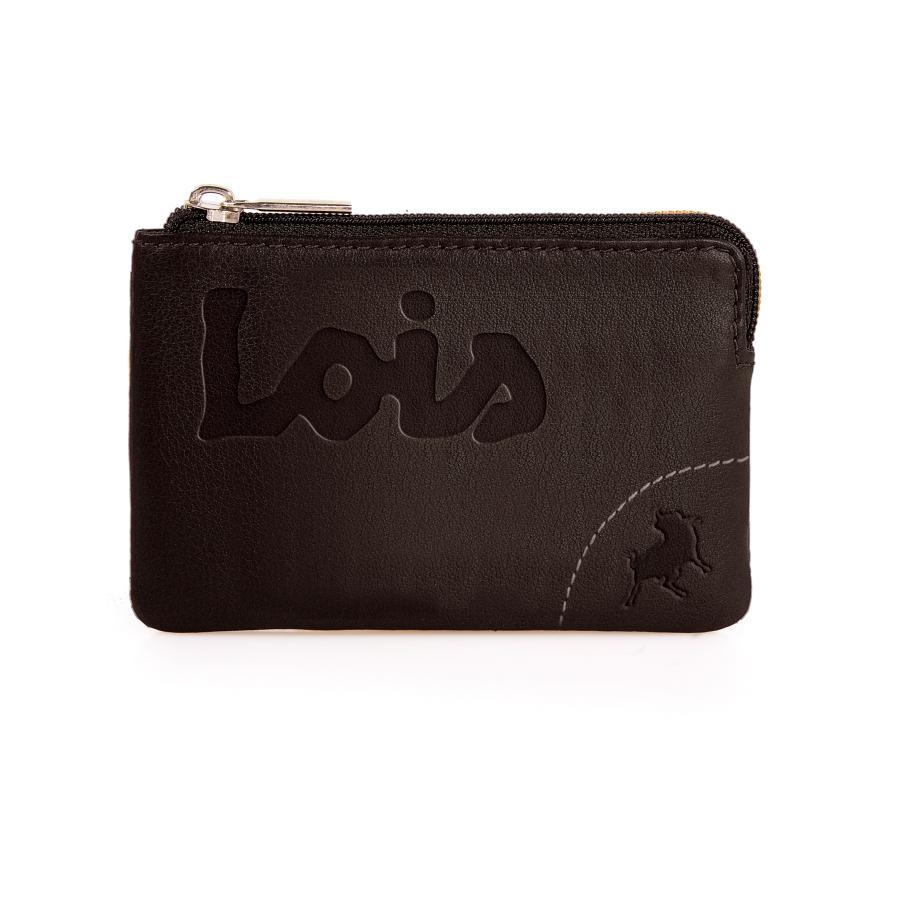monedero: (128, 184, 762, 635)
